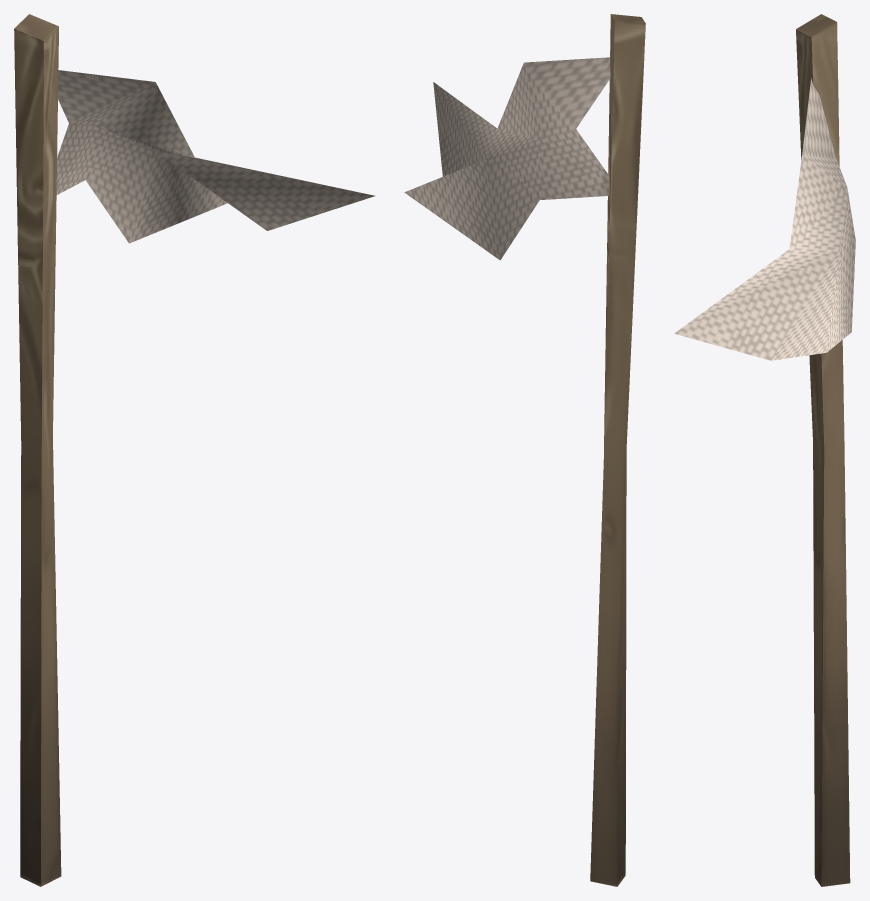
File: Egypt_Village_Props_17.FBX
3 views of the same model, side by side, from view 1: azimuth 30°, elevation 25°; view 2: azimuth 150°, elevation 25°; view 3: azimuth 270°, elevation 25° (orthographic).
Visible parts, largest first — view 1: Egypt_Village_Props_17; view 2: Egypt_Village_Props_17; view 3: Egypt_Village_Props_17.
Part boxes in pixels (x1=…): Egypt_Village_Props_17: x1=14, y1=14, x2=374, y2=886; Egypt_Village_Props_17: x1=404, y1=14, x2=645, y2=886; Egypt_Village_Props_17: x1=674, y1=14, x2=855, y2=886.
Bounding box in the file's own units: 116 × 333 × 64.01.
